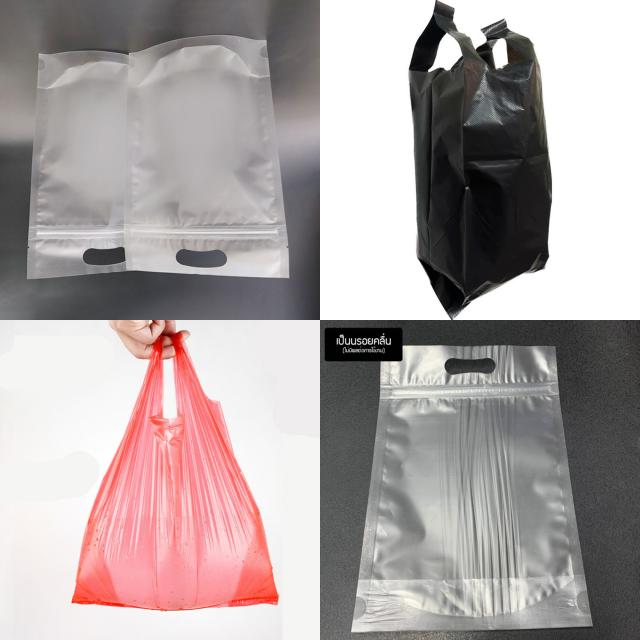Single-layer Plastic: (352, 345, 590, 631), (72, 332, 279, 610), (409, 1, 551, 318), (125, 36, 289, 278), (28, 51, 129, 279)
